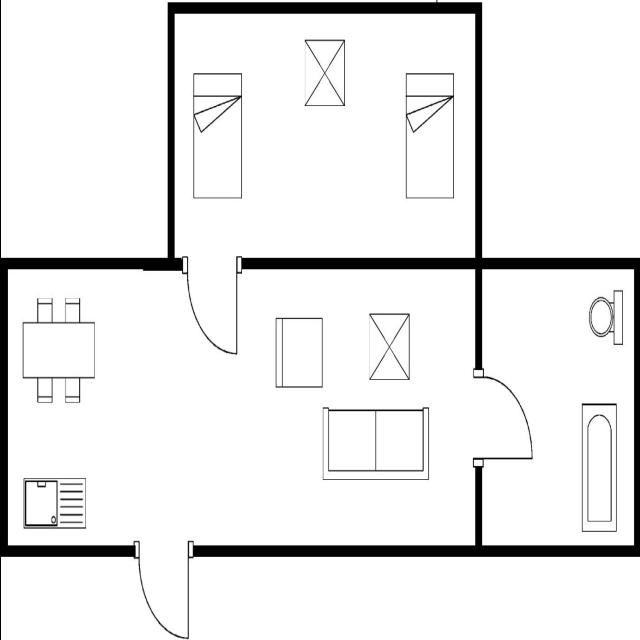bed: (401, 66, 457, 206), (189, 68, 245, 204)
coffee_table: (300, 34, 349, 110), (364, 309, 414, 383)
dining_table: (18, 291, 98, 409)
large_sink: (584, 286, 626, 347)
large_sofa: (316, 400, 432, 489)
sink: (20, 470, 90, 530)
small_sofa: (270, 313, 326, 391)
tub: (578, 400, 620, 534)
